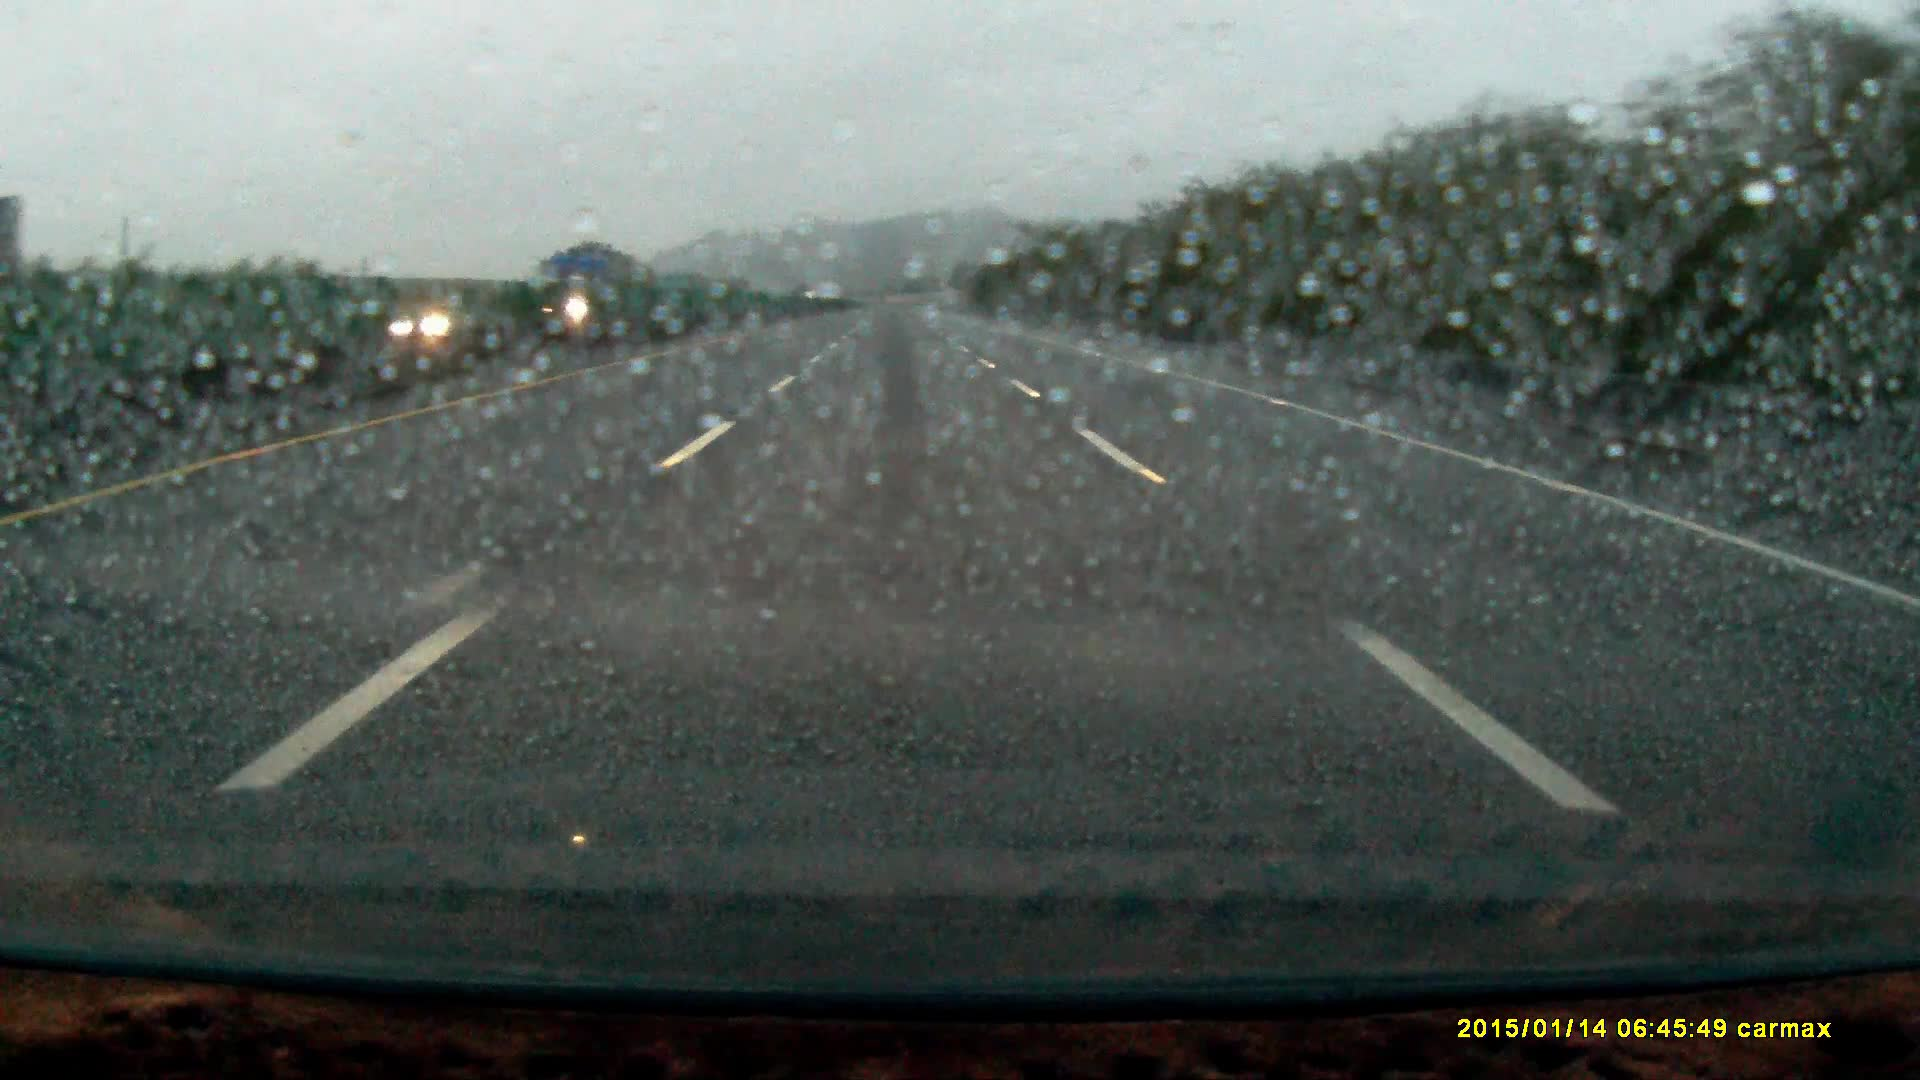vehicle: (394, 301, 477, 334)
